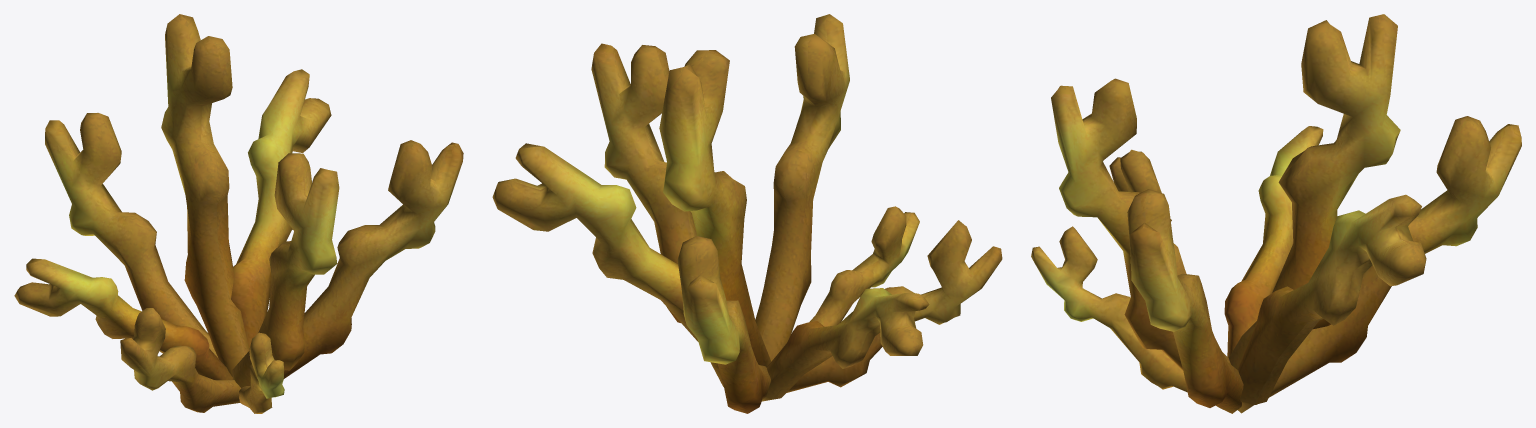
Rendered from coral-yellow.glb.
3 renders of one model, left to right at view 1: azimuth 30°, elevation 25°; view 2: azimuth 150°, elevation 25°; view 3: azimuth 270°, elevation 25°, orthographic. The views are drawn at different scales.
Parts seen in each view (by area): view 1: node_id5; view 2: node_id5; view 3: node_id5.
Boxes of the visible parts, <box> form: node_id5: <box>14,14,463,413</box>; node_id5: <box>492,14,1002,413</box>; node_id5: <box>1031,14,1521,413</box>.
Bounding box in the file's own units: 0.512 × 0.4512 × 0.5071.
Materials: 1 (1 with a texture image).
